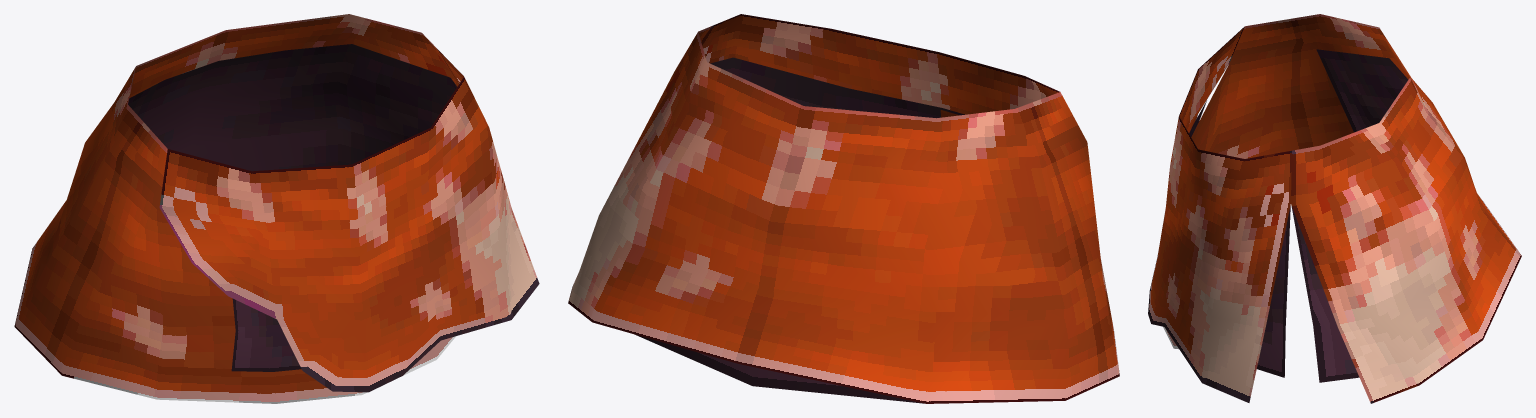
Rendered from f_wst150.glb.
3 views of the same model, side by side, from view 1: azimuth 30°, elevation 25°; view 2: azimuth 150°, elevation 25°; view 3: azimuth 270°, elevation 25° (orthographic). The views are drawn at different scales.
Bounding box in the file's own units: 48.19 × 26.53 × 36.6.
Materials: 1 (1 with a texture image).
